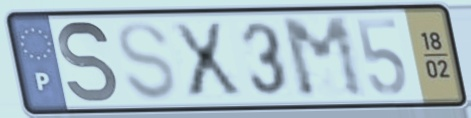3: (237, 19, 290, 99)
5: (352, 15, 410, 98)
M: (276, 13, 371, 102)
S: (55, 18, 122, 107), (115, 18, 180, 104)
X: (166, 19, 246, 101)
